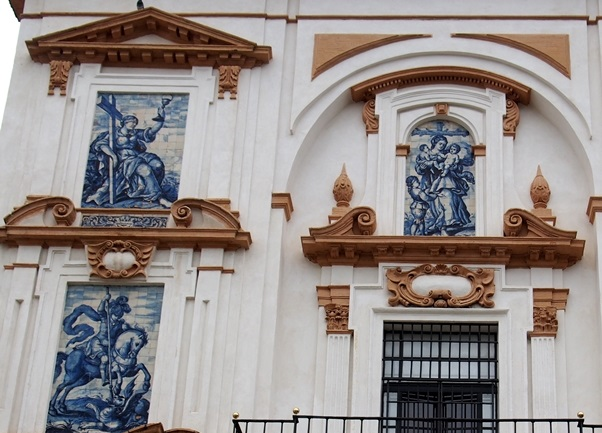fronton: (24, 4, 274, 70)
fronton-partido: (297, 202, 592, 265), (1, 193, 256, 257)
vano-adintelado: (348, 282, 534, 433)
